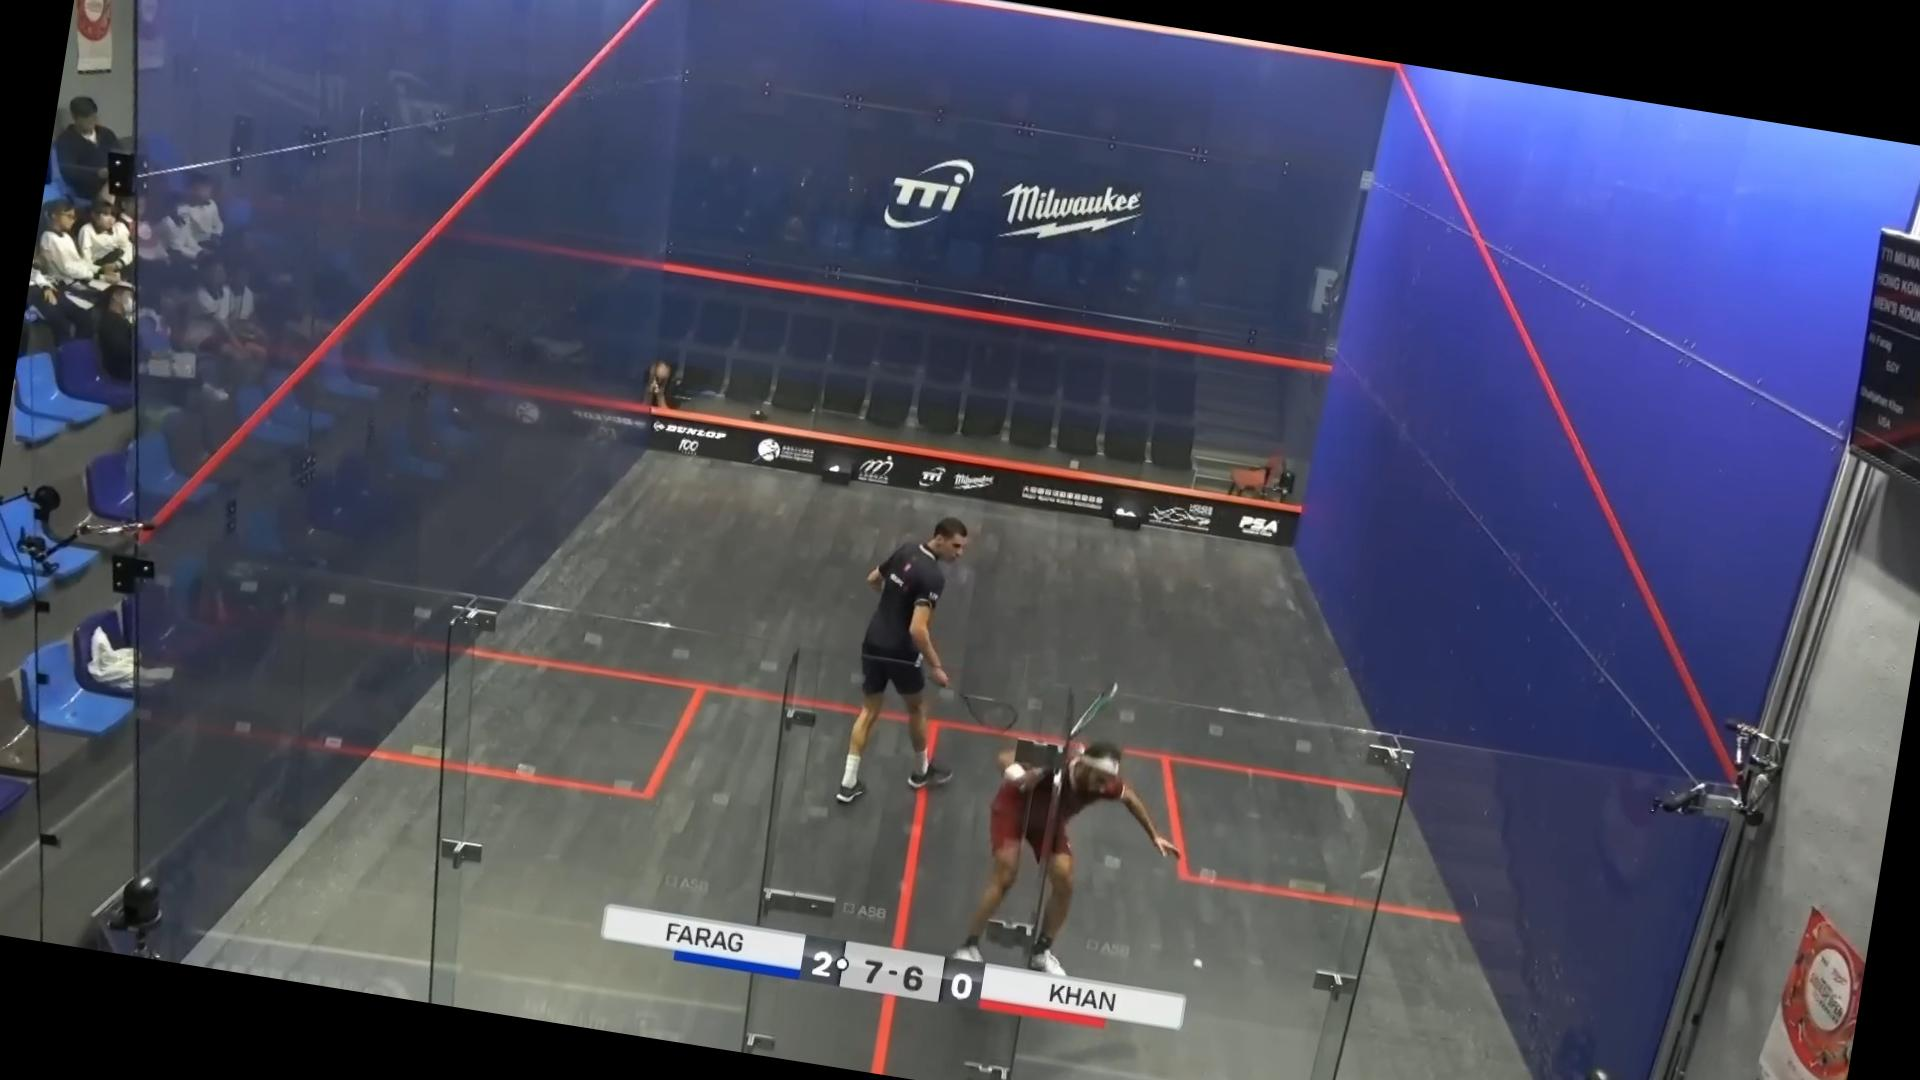Racket: (1042, 663, 1124, 785), (951, 680, 1040, 736)
